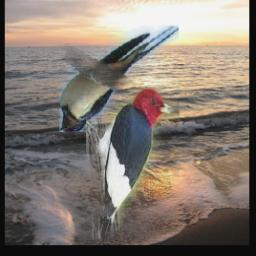Swallow: (58, 26, 178, 132)
Woodpecker: (86, 88, 180, 243)
